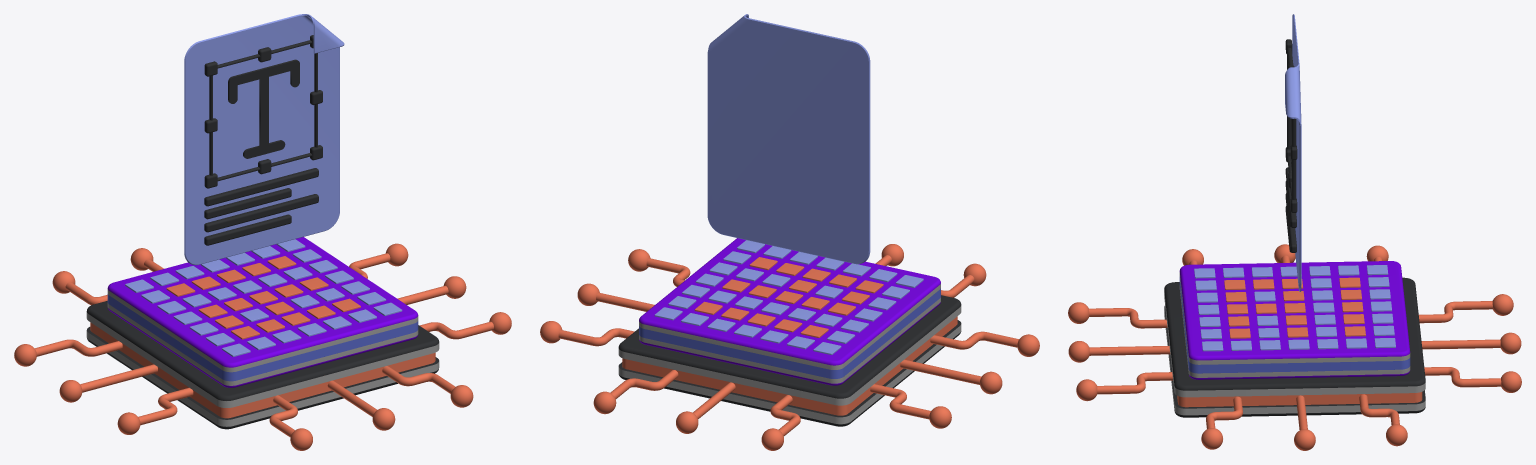
Rendered from ai-writer-3d-animated-icon-798000969994.glb.
3 renders of one model, left to right at view 1: azimuth 30°, elevation 25°; view 2: azimuth 150°, elevation 25°; view 3: azimuth 270°, elevation 25°, orthographic. The views are drawn at different scales.
Visible parts, largest first — view 1: Plane, Cube.001, Pin, Cube.002, Cube.011, Cube.010, Curve, Plane.001, Cube.003, Cube.008, Cube.009, Cube.007 (+1 smaller); view 2: Plane, Cube.001, Pin, Cube.002, Cube.011, Cube.010; view 3: Cube.001, Pin, Cube.002, Cube.011, Cube.010, Plane, Plane.001.
Boxes of the visible parts, box(x1,y1,x2,y2) form: Plane: box(184, 14, 344, 265); Cube.001: box(107, 237, 418, 387); Pin: box(14, 243, 511, 450); Cube.002: box(125, 239, 402, 356); Cube.011: box(86, 301, 439, 429); Cube.010: box(86, 312, 439, 426); Curve: box(228, 59, 299, 158); Plane.001: box(209, 40, 317, 181); Cube.003: box(204, 168, 318, 206); Cube.008: box(204, 194, 318, 232); Cube.009: box(204, 214, 291, 245); Cube.007: box(204, 188, 291, 219); Plane: box(707, 14, 870, 264); Cube.001: box(639, 238, 940, 385); Pin: box(540, 244, 1039, 450); Cube.002: box(654, 240, 923, 354); Cube.011: box(618, 295, 961, 426); Cube.010: box(618, 306, 961, 424); Cube.001: box(1179, 261, 1410, 379); Pin: box(1068, 244, 1521, 450); Cube.002: box(1194, 265, 1395, 351); Cube.011: box(1164, 277, 1425, 417); Cube.010: box(1164, 293, 1425, 415); Plane: box(1285, 14, 1301, 291); Plane.001: box(1287, 48, 1296, 199).
Bounding box in the file's own units: 0.4979 × 0.3806 × 0.492.
